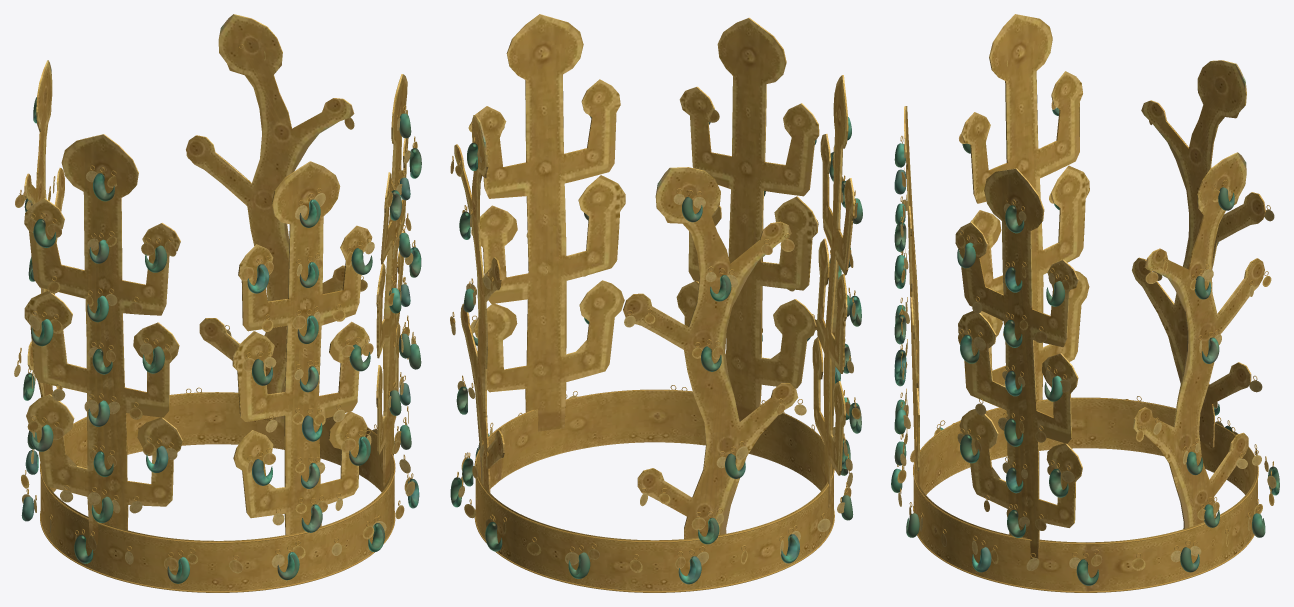
File: crown.glb
3 renders of one model, left to right at view 1: azimuth 30°, elevation 25°; view 2: azimuth 150°, elevation 25°; view 3: azimuth 270°, elevation 25°, orthographic. The views are drawn at different scales.
Parts seen in each view (by area): view 1: 01_Circlet_Atlas_Strip, 01_Circlet_Jade, 01_Circlet_Gold_Drops, 01_Circlet_Rim; view 2: 01_Circlet_Atlas_Strip, 01_Circlet_Rim, 01_Circlet_Jade, 01_Circlet_Gold_Drops; view 3: 01_Circlet_Atlas_Strip, 01_Circlet_Jade, 01_Circlet_Rim, 01_Circlet_Gold_Drops.
Part boxes in pixels (x1,y1,x2,y2): 01_Circlet_Atlas_Strip: (24, 14, 408, 592); 01_Circlet_Jade: (21, 97, 421, 583); 01_Circlet_Gold_Drops: (14, 51, 417, 573); 01_Circlet_Rim: (17, 14, 415, 592); 01_Circlet_Atlas_Strip: (454, 14, 853, 592); 01_Circlet_Rim: (452, 14, 856, 592); 01_Circlet_Jade: (450, 116, 862, 584); 01_Circlet_Gold_Drops: (450, 105, 860, 572); 01_Circlet_Atlas_Strip: (904, 14, 1264, 592); 01_Circlet_Jade: (891, 108, 1279, 585); 01_Circlet_Rim: (897, 14, 1273, 592); 01_Circlet_Gold_Drops: (897, 60, 1276, 570).
Size of the model in its own units: 0.2536 by 0.2787 by 0.2258.
4 materials, 4 textured.
